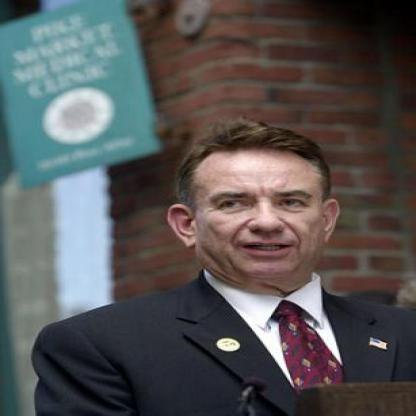face: (191, 130, 337, 281)
